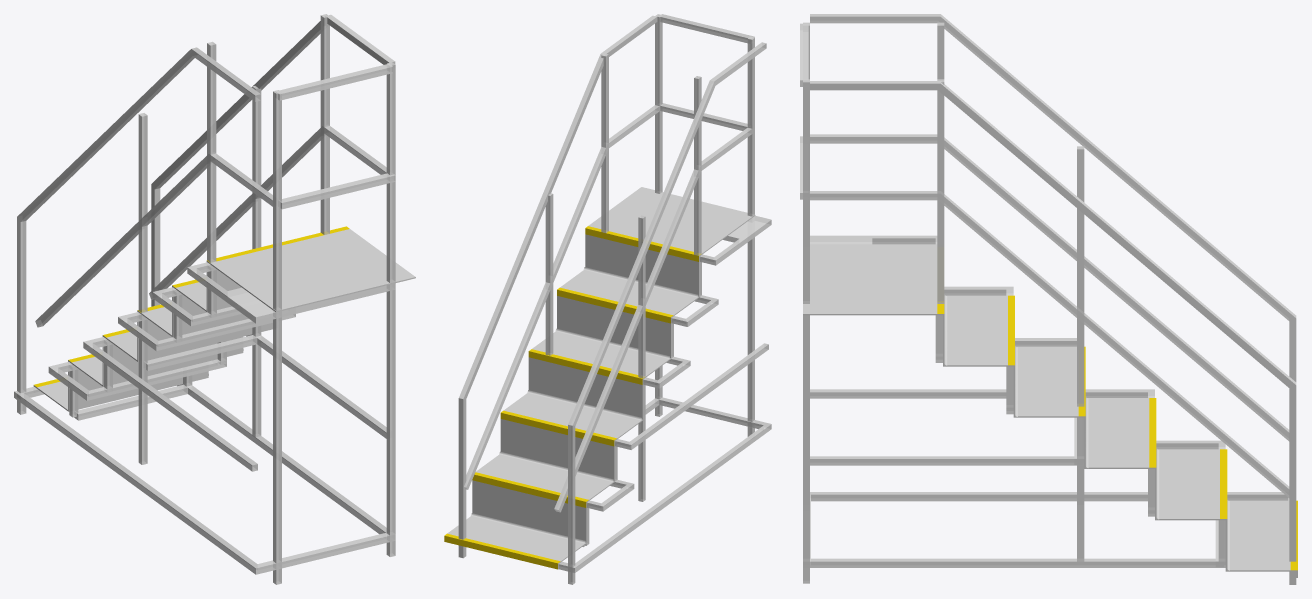
The model's file is เทสเว็บ3D.glb.
3 views of the same model, side by side, from view 1: azimuth 30°, elevation 25°; view 2: azimuth 150°, elevation 25°; view 3: azimuth 270°, elevation 25° (orthographic). The views are drawn at different scales.
Parts seen in each view (by area): view 1: Node204, Node348, Node289, Node345, Node290, Node347, Node41, Node288, Node225, Node252, Node131, Node173 (+67 smaller); view 2: Node204, Node183, Node190, Node195, Node194, Node193, Node182, Node185, Node196, Node192, Node186, Node345 (+59 smaller); view 3: Node204, Node196, Node192, Node182, Node185, Node186, Node291, Node121, Node133, Node161, Node171, Node288 (+35 smaller).
Part boxes in pixels (x1,y1,x2,y2): Node204: (210,229,415,310); Node348: (276,93,281,584); Node289: (390,65,395,556); Node345: (273,91,277,581); Node290: (387,74,391,553); Node347: (273,91,276,584); Node41: (142,115,147,464); Node288: (386,66,389,556); Node225: (14,391,255,574); Node252: (255,88,261,437); Node131: (17,49,192,221); Node173: (35,154,209,327); Node204: (588,187,754,253); Node183: (472,480,586,542); Node190: (500,419,614,480); Node195: (528,357,642,419); Node194: (585,234,698,296); Node193: (557,296,670,358); Node182: (447,516,585,561); Node185: (475,454,613,499); Node196: (504,393,642,438); Node192: (560,270,698,315); Node186: (532,331,670,376); Node345: (747,39,752,436); Node204: (803,244,937,313); Node196: (1086,398,1149,467); Node192: (945,295,1007,365); Node182: (1228,500,1290,570); Node185: (1157,449,1219,518); Node186: (1015,346,1078,416); Node291: (803,82,809,583); Node121: (938,84,1295,387); Node133: (938,17,1295,321); Node161: (938,194,1289,497); Node171: (944,140,1289,441); Node288: (803,80,809,579).
Bounding box in the file's own units: 26.38 × 77 × 69.29.
